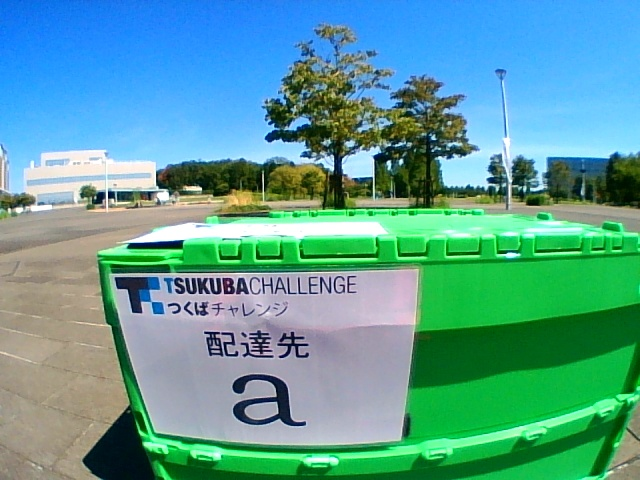green_box: (98, 209, 640, 480)
tag_a: (154, 277, 400, 433)
